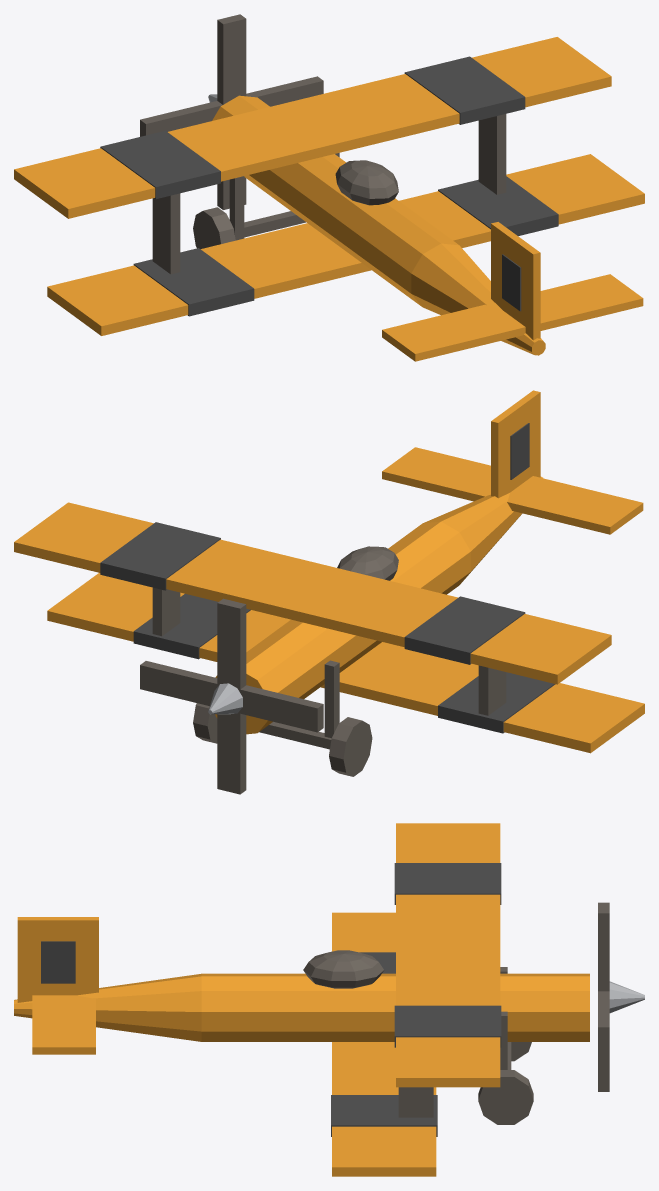
The model's file is boss-4-tiger.glb.
3 renders of one model, top to bottom at view 1: azimuth 30°, elevation 25°; view 2: azimuth 150°, elevation 25°; view 3: azimuth 270°, elevation 25°, orthographic. The views are drawn at different scales.
Visible parts, largest first — view 1: boss-4-tiger; view 2: boss-4-tiger; view 3: boss-4-tiger.
Boxes of the visible parts, bbox=[...] form: boss-4-tiger: bbox=[14, 14, 644, 361]; boss-4-tiger: bbox=[14, 390, 644, 794]; boss-4-tiger: bbox=[14, 823, 644, 1176].
Size of the model in its own units: 5.2 by 1.73 by 5.44.
